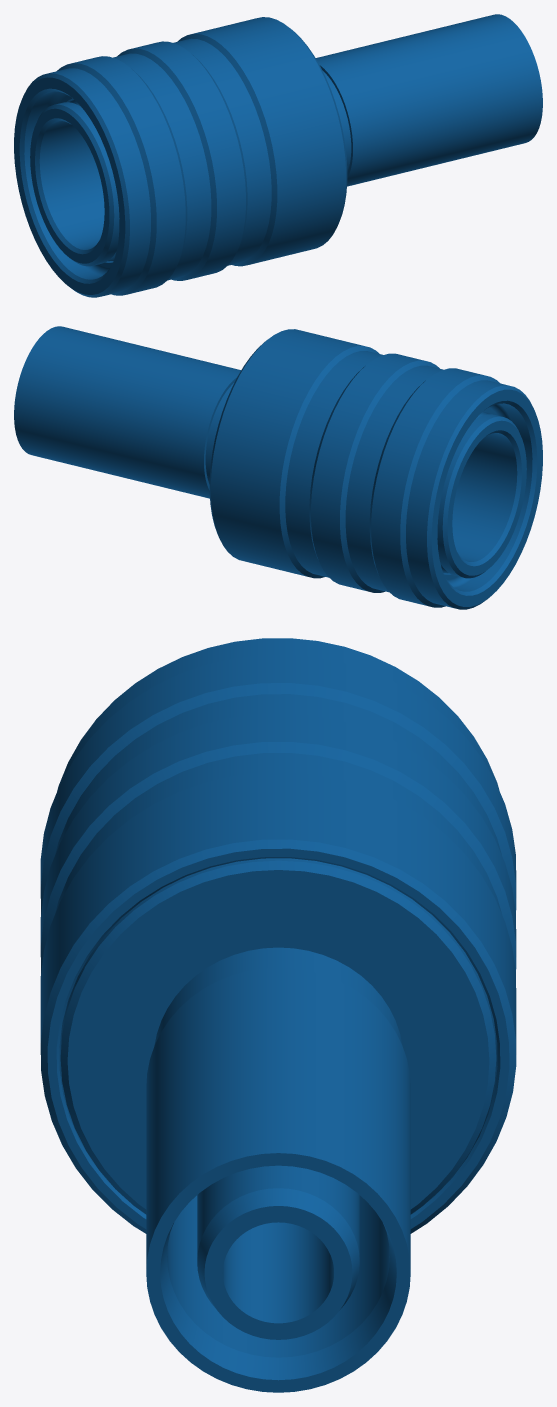
3 views of the same model, one above another, from view 1: azimuth 30°, elevation 25°; view 2: azimuth 150°, elevation 25°; view 3: azimuth 270°, elevation 25° (orthographic). The views are drawn at different scales.
Visible parts, largest first — view 1: Nut, Crimp, Ring, Pipe; view 2: Nut, Crimp, Ring, Pipe; view 3: Nut, Crimp, Ring, Pipe.
Part boxes in pixels (x1,y1,x2,y2): Nut: (14, 17, 347, 297); Crimp: (315, 14, 542, 186); Ring: (57, 41, 247, 295); Pipe: (322, 70, 351, 171); Nut: (209, 329, 542, 609); Crimp: (14, 326, 240, 498); Ring: (309, 353, 499, 607); Pipe: (205, 383, 233, 484); Nut: (40, 638, 516, 1233); Crimp: (146, 967, 410, 1392); Ring: (40, 654, 516, 972); Pipe: (154, 947, 402, 1339).
Bounding box in the file's own units: 0.0365 × 0.0171 × 0.0171.
